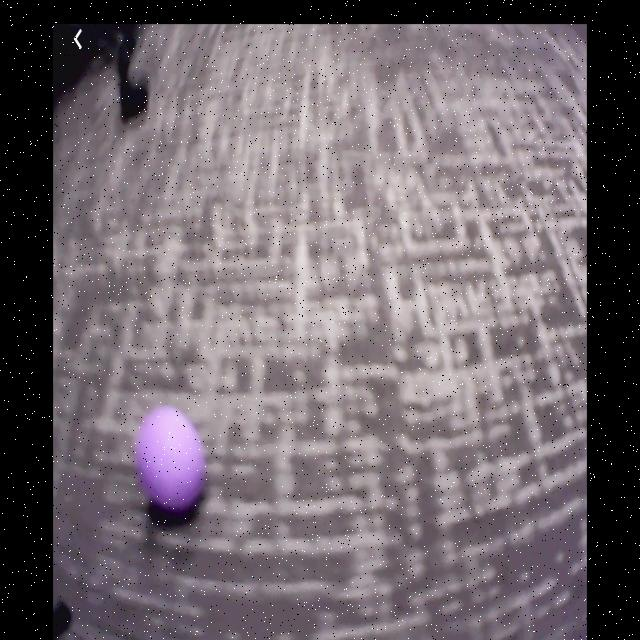ball: (137, 405, 207, 509)
